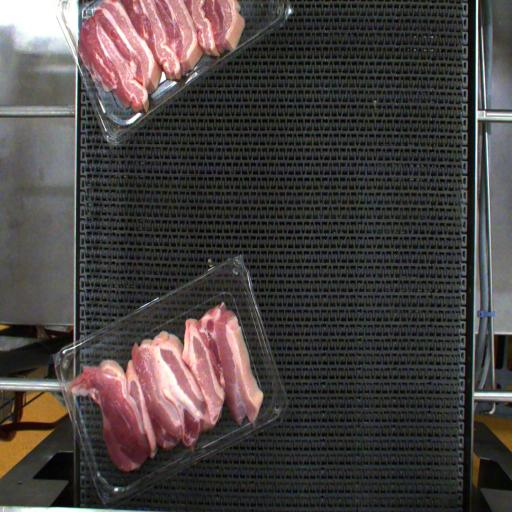packaging-error: (57, 375, 86, 414)
